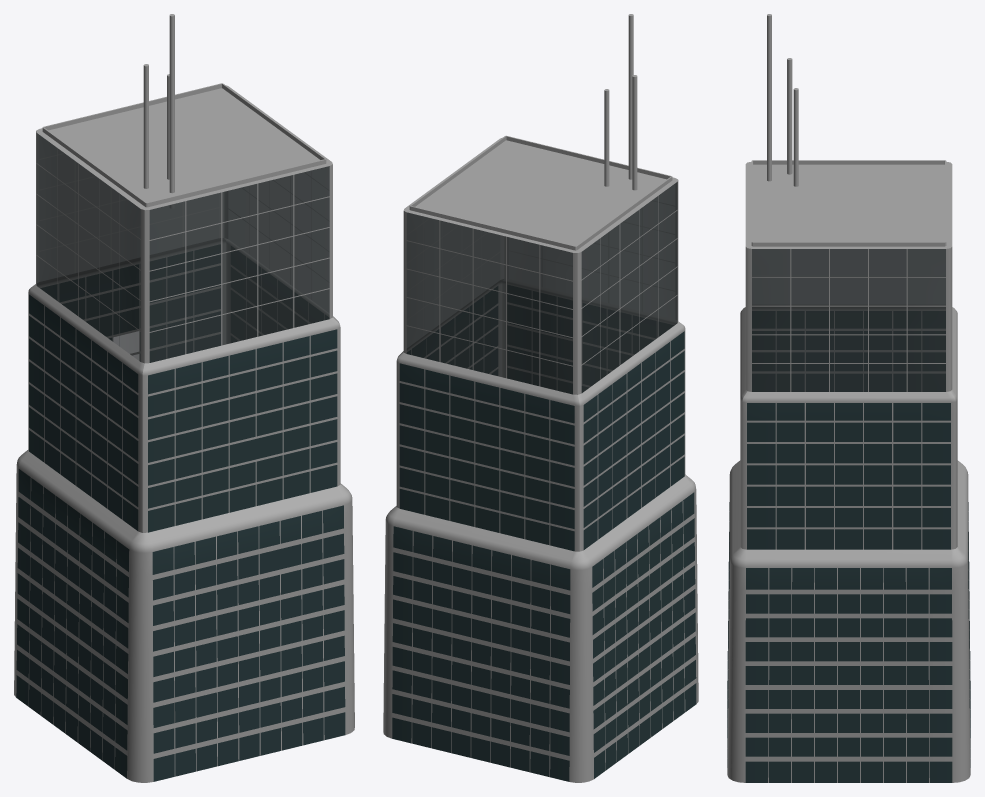
The model's file is Building2.fbx.
3 views of the same model, side by side, from view 1: azimuth 30°, elevation 25°; view 2: azimuth 150°, elevation 25°; view 3: azimuth 270°, elevation 25° (orthographic). The views are drawn at different scales.
Visible parts, largest first — view 1: Skyscraper, Rod1, Rod3; view 2: Skyscraper, Rod1, Rod3, Rod2; view 3: Skyscraper, Rod1, Rod3, Rod2.
Part boxes in pixels (left/top/right/bottom): Skyscraper: left=14, top=83, right=354, bottom=782; Rod1: left=169, top=14, right=174, bottom=208; Rod3: left=143, top=64, right=148, bottom=188; Skyscraper: left=383, top=135, right=698, bottom=782; Rod1: left=628, top=14, right=633, bottom=179; Rod3: left=632, top=75, right=637, bottom=190; Rod2: left=604, top=89, right=609, bottom=186; Skyscraper: left=727, top=160, right=970, bottom=782; Rod1: left=767, top=14, right=771, bottom=181; Rod3: left=787, top=58, right=792, bottom=174; Rod2: left=793, top=88, right=798, bottom=186.
Size of the model in its own units: 36.48 by 114 by 36.48.
